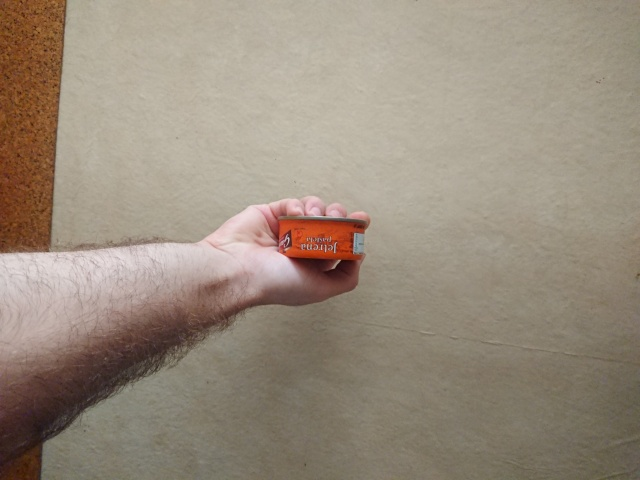Gavrilovic Pork Liver Pate 100g: (275, 213, 369, 262)
